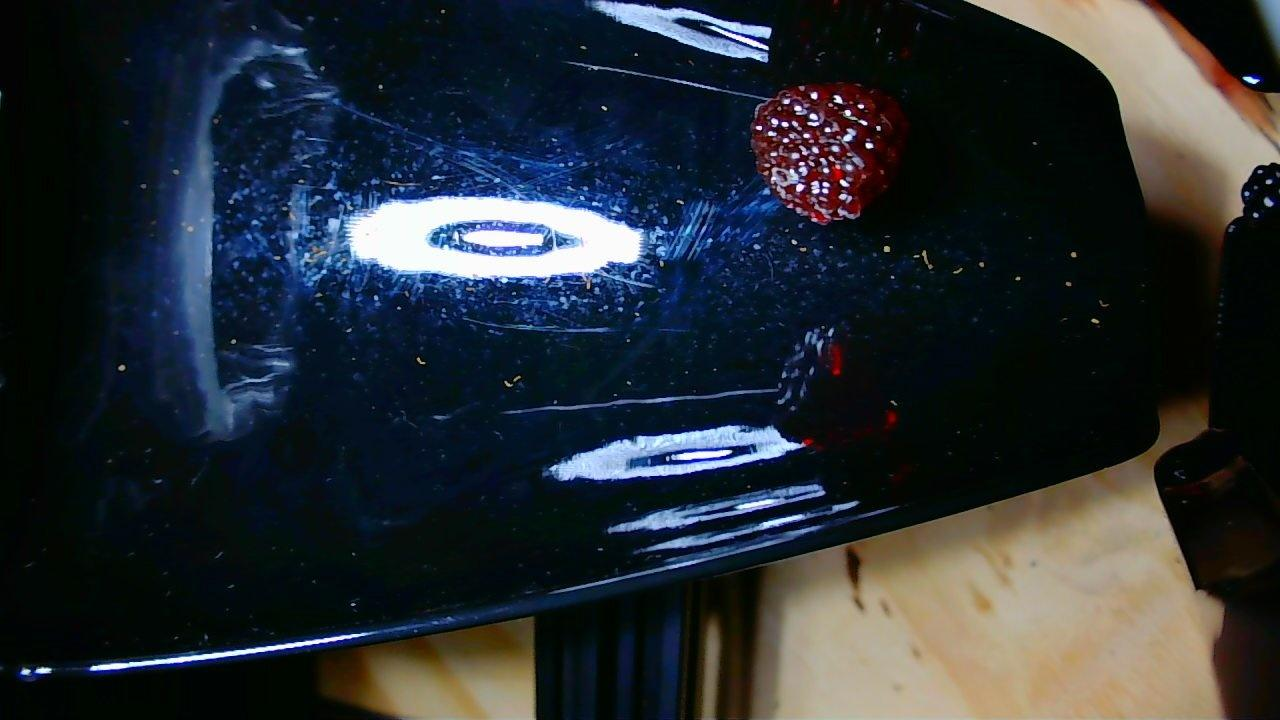berry: (751, 82, 907, 224), (1242, 163, 1279, 225)
